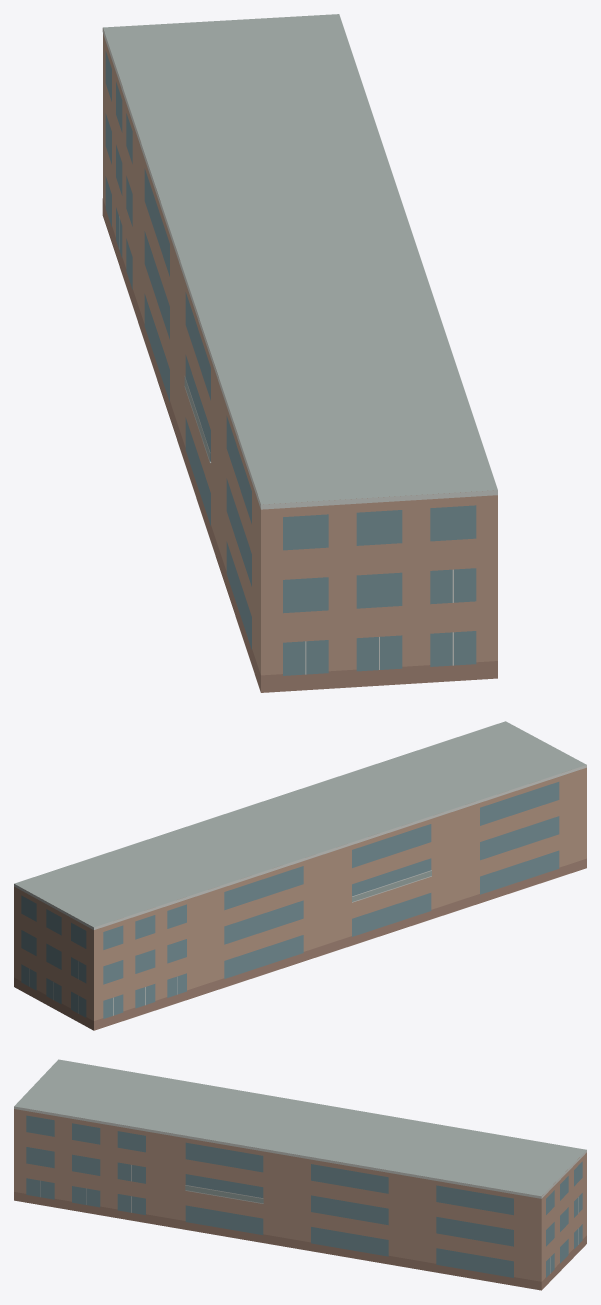
File: survey-upis-32957202.glb
The picture shows the model from 3 angles, top to bottom: view 1: azimuth 30°, elevation 25°; view 2: azimuth 150°, elevation 25°; view 3: azimuth 270°, elevation 25°; orthographic projection. The views are drawn at different scales.
Visible parts, largest first — view 1: survey-upis-32957202.tmp; view 2: survey-upis-32957202.tmp; view 3: survey-upis-32957202.tmp.
Boxes of the visible parts, x1,y1,x2,y2 form: survey-upis-32957202.tmp: [102, 14, 497, 692]; survey-upis-32957202.tmp: [14, 721, 586, 1030]; survey-upis-32957202.tmp: [14, 1059, 586, 1290].
Size of the model in its own units: 28.55 by 9.15 by 50.47.
